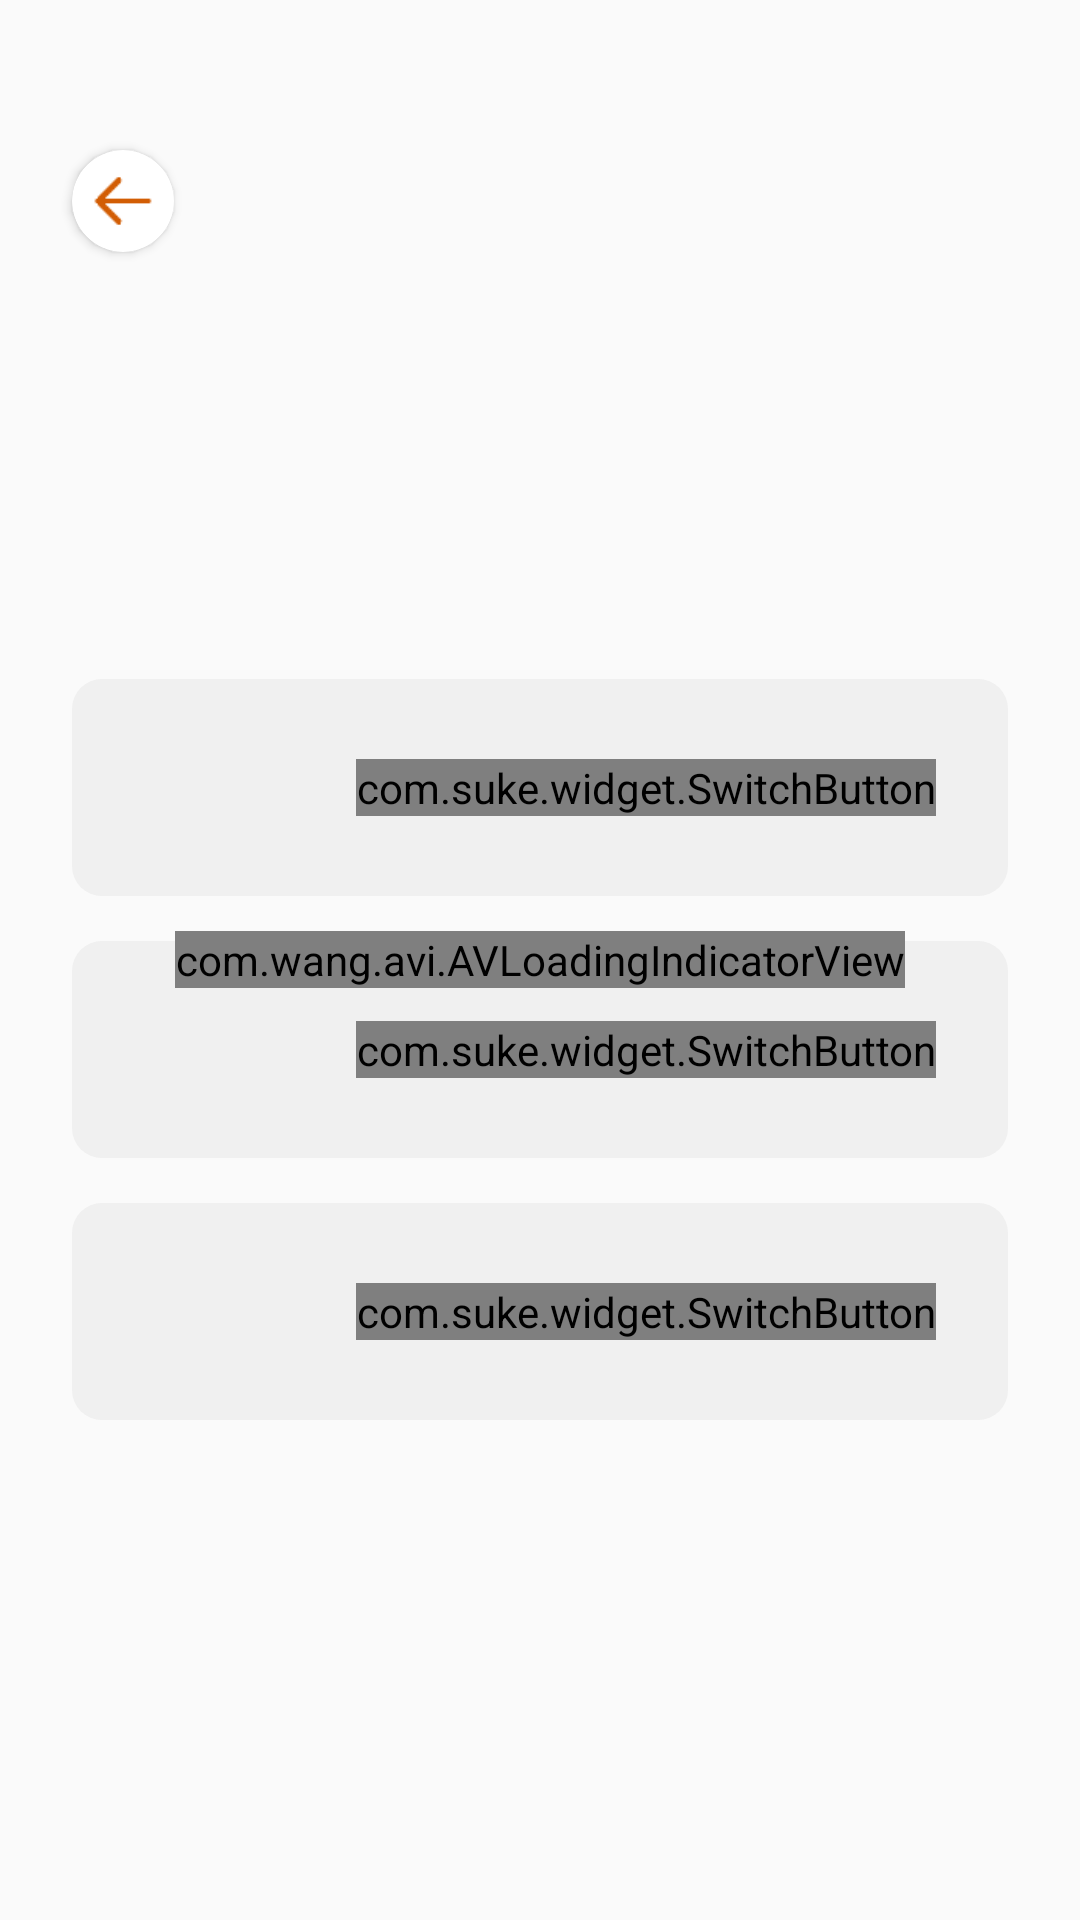

Where to tap for icons on this 1080px×1920px app screen, as point (x, y):
back arrow: point (123, 201)
